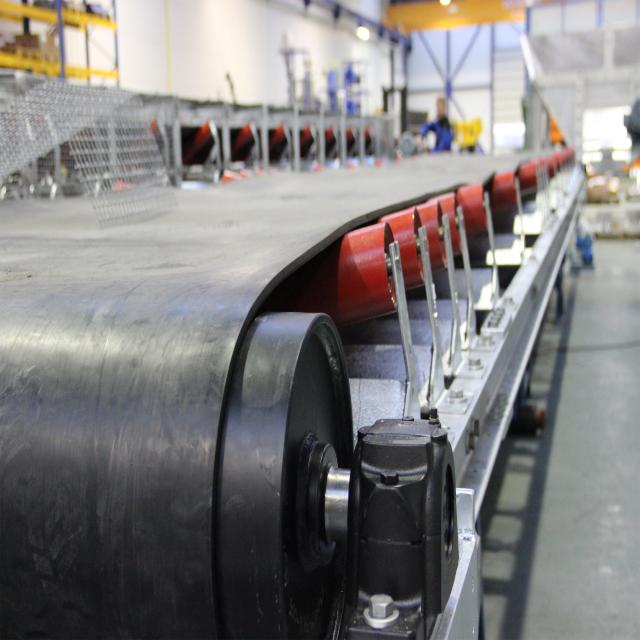conveyor: (2, 137, 584, 640)
